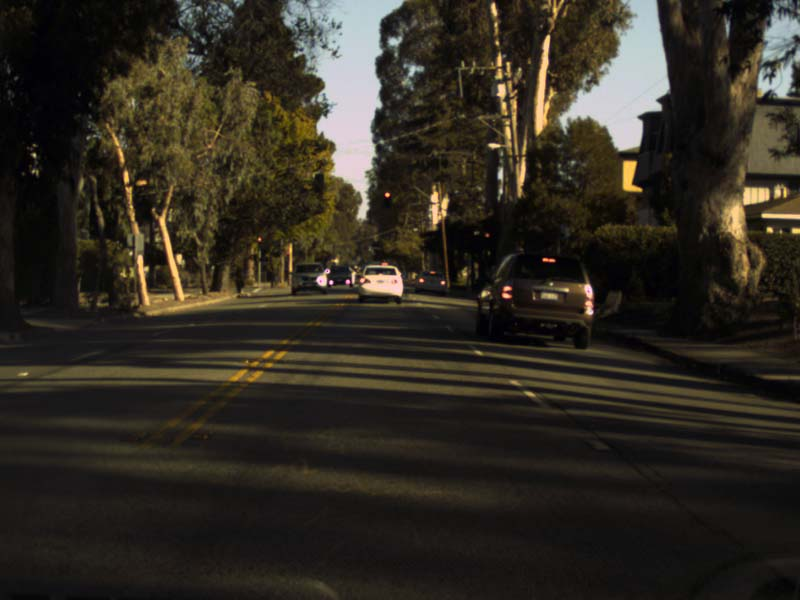Red: (482, 229, 491, 249), (383, 189, 392, 207)
